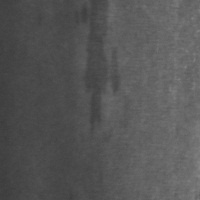inclusion: (76, 1, 123, 131)
